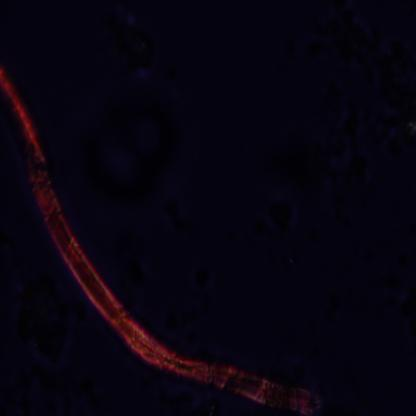Microfibre: (0, 68, 316, 413)
